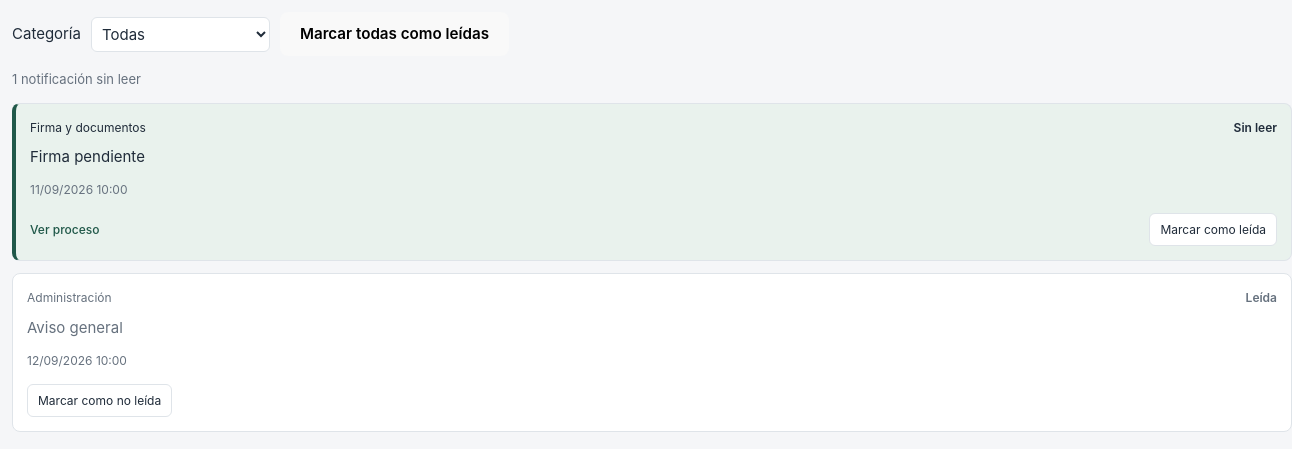
Test case: ordena primero las no leídas, distingue categorías y elimina el color al leer
Expected: the text "Firma pendiente" is shown, 30,147 -> 145,166
Expected: the element that starts with "Firma y documentos" is shown, 30,120 -> 146,135
Click the button "Marcar como leída". click: x=1213, y=230
box: 1150,213 -> 1277,246
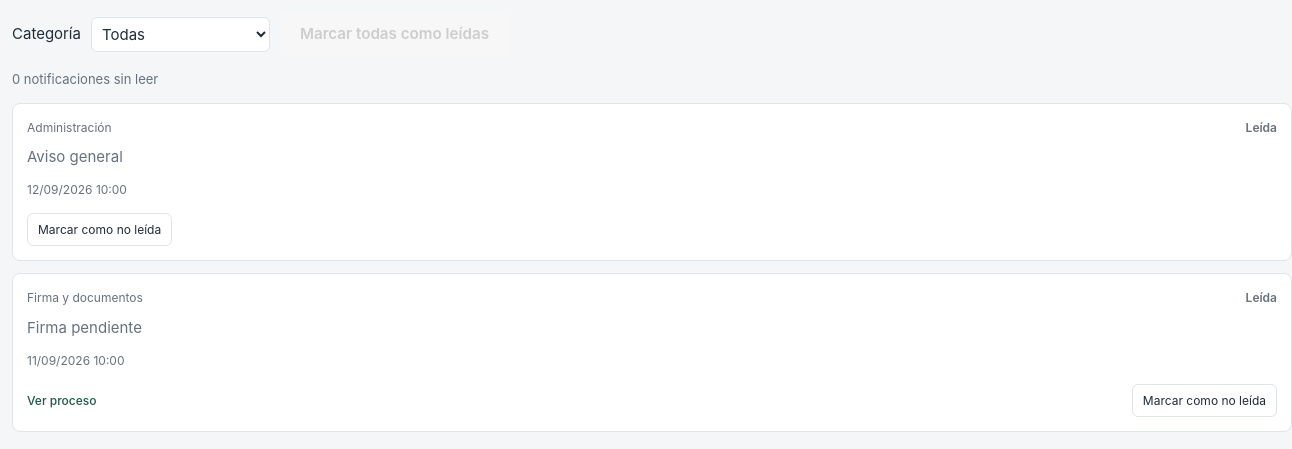
Expected: the element that starts with "Administración" shows "Aviso general", 27,147 -> 123,166
Now the message reads "0 notificaciones sin leer", box 12,71 -> 158,87
